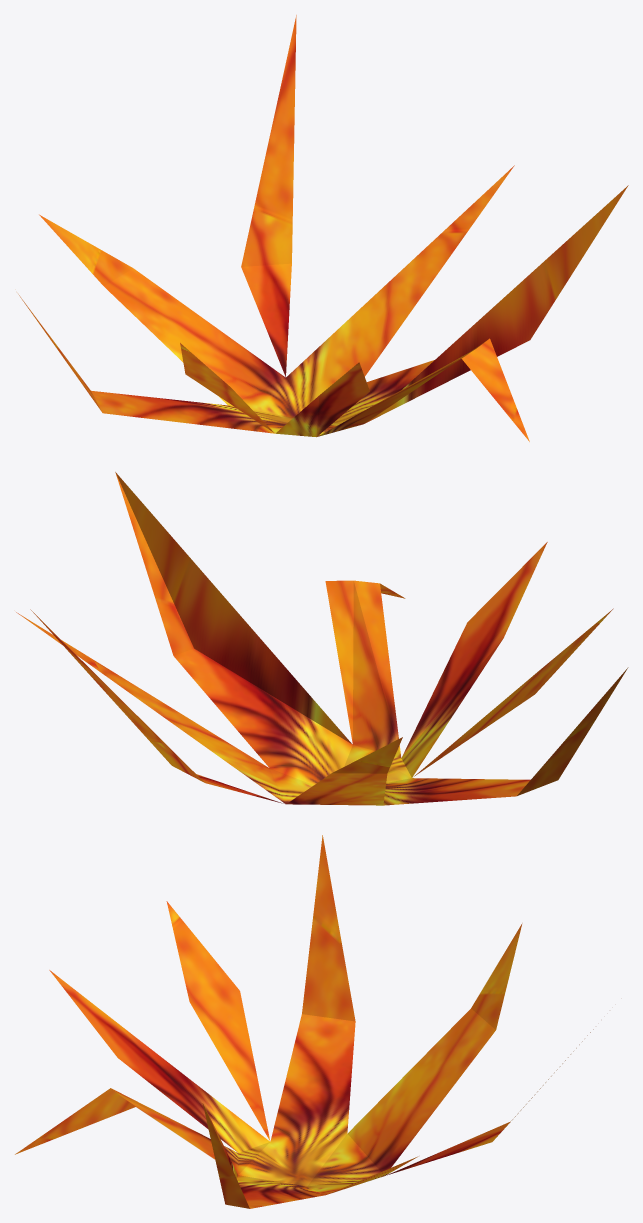
Rendered from Island_1_TFlower_3.gltf.
The picture shows the model from 3 angles, top to bottom: view 1: azimuth 30°, elevation 25°; view 2: azimuth 150°, elevation 25°; view 3: azimuth 270°, elevation 25°; orthographic projection. The views are drawn at different scales.
Visible parts, largest first — view 1: Island_1_TFlower_3; view 2: Island_1_TFlower_3; view 3: Island_1_TFlower_3.
Part boxes in pixels (x1,y1,x2,y2): Island_1_TFlower_3: (18, 15, 628, 441); Island_1_TFlower_3: (16, 472, 628, 805); Island_1_TFlower_3: (15, 835, 593, 1208).
Bounding box in the file's own units: 3.33 × 1.48 × 3.1.
Materials: 1 (1 with a texture image).
